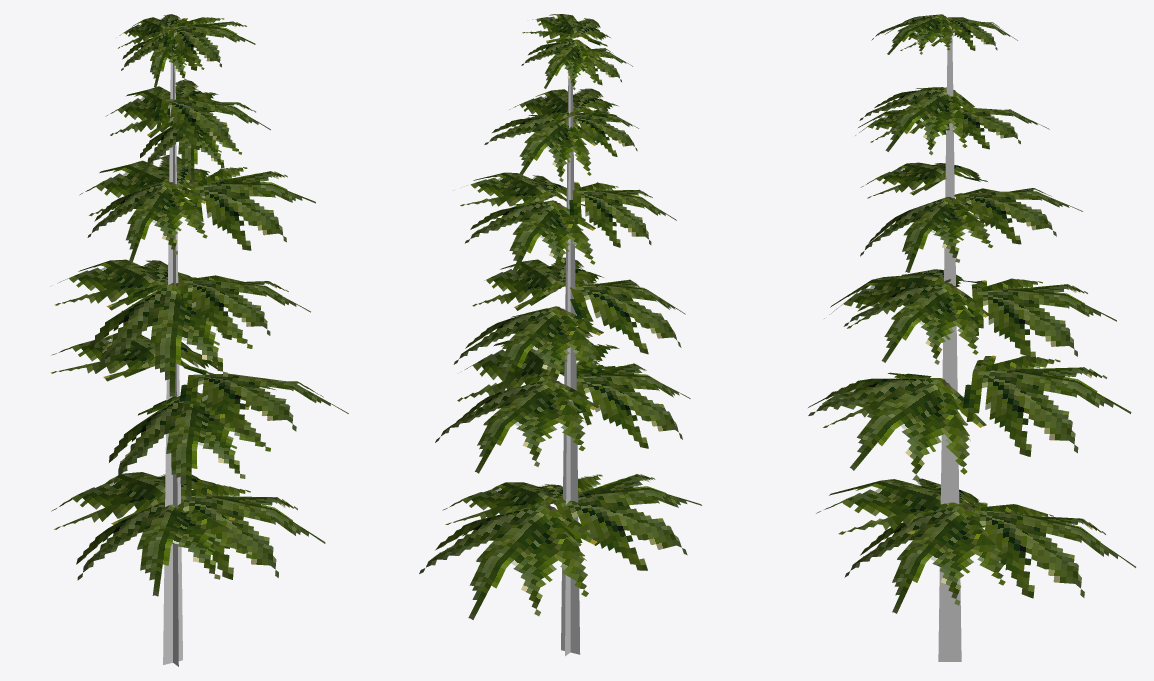
Rendered from Hemp.fbx.
3 views of the same model, side by side, from view 1: azimuth 30°, elevation 25°; view 2: azimuth 150°, elevation 25°; view 3: azimuth 270°, elevation 25° (orthographic). The views are drawn at different scales.
Parts seen in each view (by area): view 1: HempLeaf.004, Plane.001; view 2: HempLeaf.004, Plane.001; view 3: HempLeaf.004, Plane.001.
Part boxes in pixels (left/top/right/bottom): HempLeaf.004: left=50, top=14, right=348, bottom=596; Plane.001: left=163, top=35, right=182, bottom=666; HempLeaf.004: left=419, top=14, right=701, bottom=619; Plane.001: left=561, top=73, right=580, bottom=656; HempLeaf.004: left=808, top=14, right=1135, bottom=613; Plane.001: left=938, top=25, right=961, bottom=661.
Size of the model in its own units: 191 by 383 by 203.
